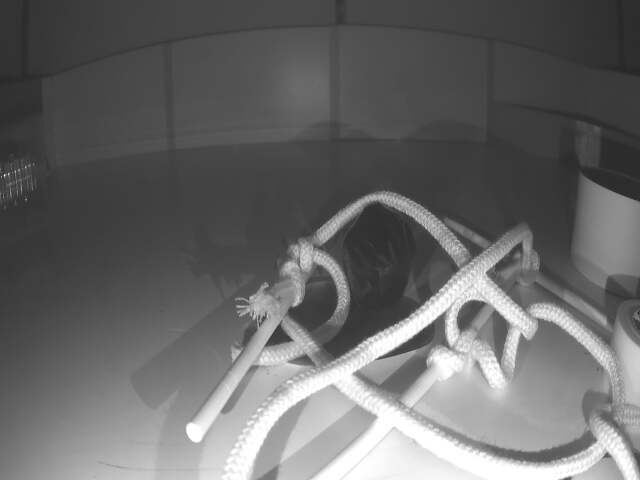Dead: (338, 204, 416, 314)
Point: (490, 100, 640, 177)
